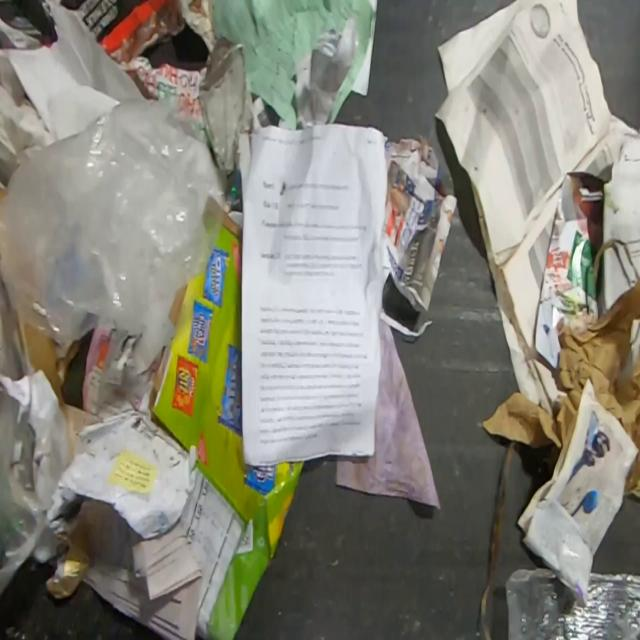cardboard: (148, 212, 307, 640), (479, 273, 640, 500), (116, 52, 208, 143), (12, 310, 83, 409), (173, 0, 216, 51)
soft_plastic: (0, 89, 226, 376), (0, 266, 74, 593), (504, 566, 640, 640), (198, 35, 254, 177)
